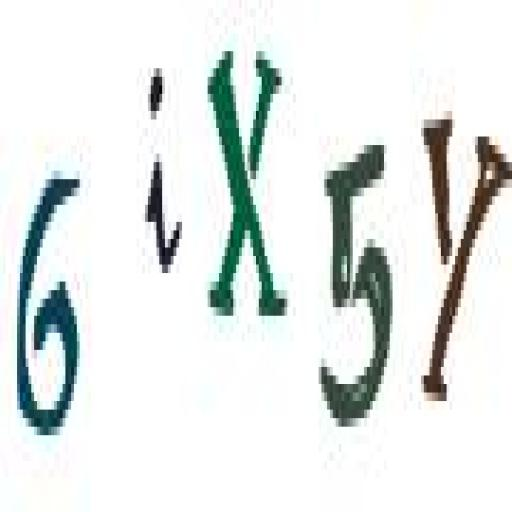5: (317, 138, 399, 444)
6: (8, 139, 91, 448)
X: (203, 34, 293, 348)
Y: (415, 83, 511, 416)
i: (136, 70, 190, 292)
